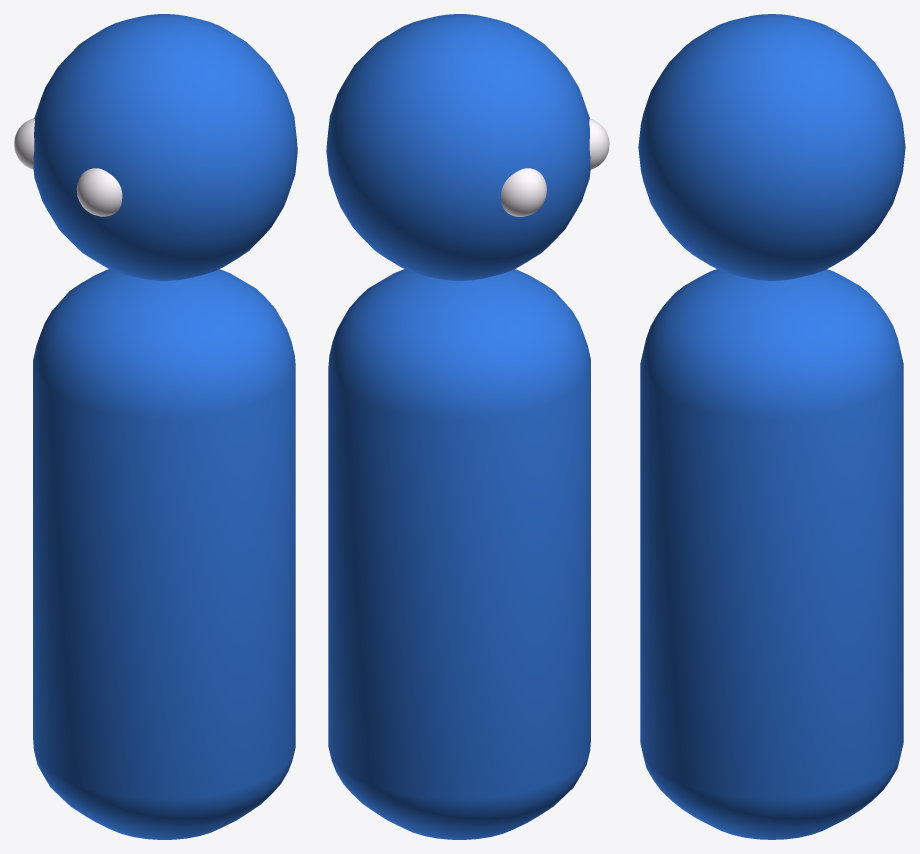
Rendered from Person.fbx.
3 renders of one model, left to right at view 1: azimuth 30°, elevation 25°; view 2: azimuth 150°, elevation 25°; view 3: azimuth 270°, elevation 25°, orthographic.
Visible parts, largest first — view 1: Cylinder.001, Sphere.005, Sphere.007, Sphere.006; view 2: Cylinder.001, Sphere.005, Sphere.006, Sphere.007; view 3: Cylinder.001, Sphere.005.
Boxes of the visible parts, x1,y1,x2,y2 form: Cylinder.001: (33,269,295,839); Sphere.005: (33,14,297,280); Sphere.007: (76,168,122,216); Sphere.006: (14,118,34,169); Cylinder.001: (328,269,590,839); Sphere.005: (326,14,590,280); Sphere.006: (501,168,546,216); Sphere.007: (589,118,609,169); Cylinder.001: (640,269,903,839); Sphere.005: (638,14,905,280).
Size of the model in its own units: 162 by 533 by 162.
